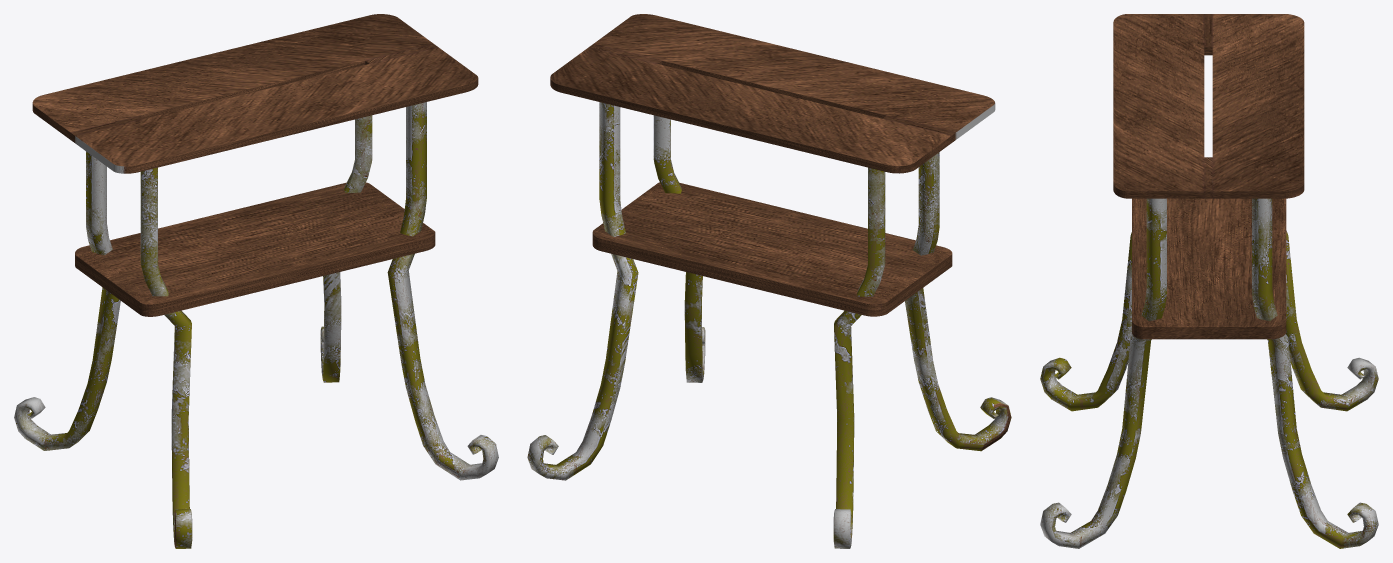
File: MesaCierra.fbx
The picture shows the model from 3 angles, left to right: view 1: azimuth 30°, elevation 25°; view 2: azimuth 150°, elevation 25°; view 3: azimuth 270°, elevation 25°; orthographic projection.
Parts seen in each view (by area): view 1: MesaCierra, PatasMesaCerrucho, MesasCierra_SegundoPiso; view 2: MesaCierra, PatasMesaCerrucho, MesasCierra_SegundoPiso; view 3: MesaCierra, PatasMesaCerrucho, MesasCierra_SegundoPiso.
Part boxes in pixels (<box>): MesaCierra: <box>32,14,478,173</box>; PatasMesaCerrucho: <box>14,102,498,548</box>; MesasCierra_SegundoPiso: <box>75,182,435,316</box>; MesaCierra: <box>550,14,995,173</box>; PatasMesaCerrucho: <box>527,102,1011,548</box>; MesasCierra_SegundoPiso: <box>592,182,952,316</box>; MesaCierra: <box>1113,14,1304,198</box>; PatasMesaCerrucho: <box>1040,198,1378,548</box>; MesasCierra_SegundoPiso: <box>1132,198,1286,339</box>.
Size of the model in its own units: 556 by 547 by 449.
Materials: 1 (1 with a texture image).
